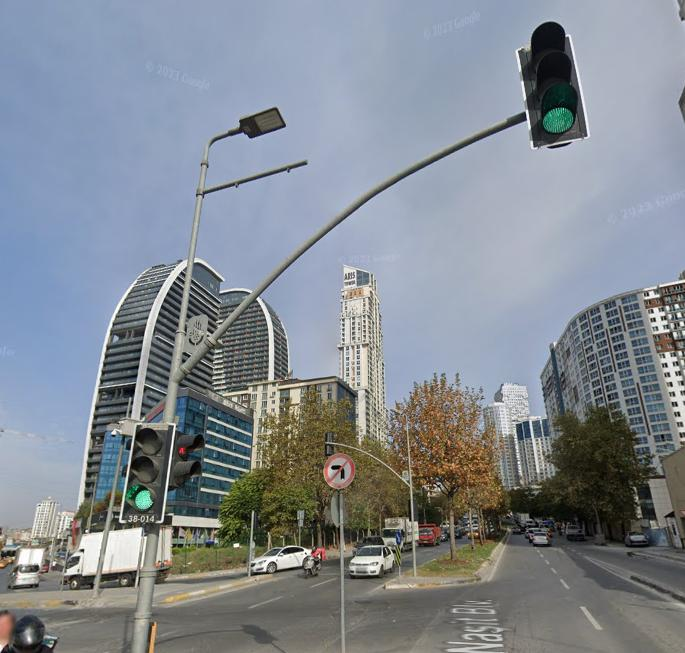greenlight: (525, 23, 579, 134), (126, 424, 157, 516)
leftturnsareforbidden: (322, 453, 355, 488)
